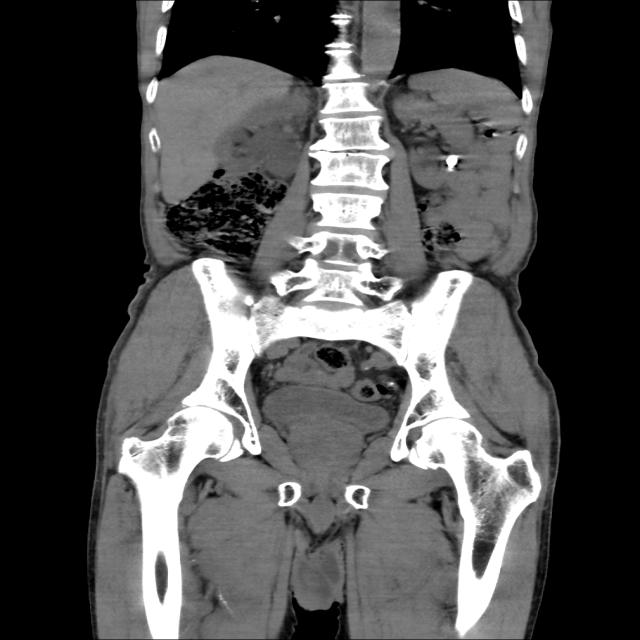kidneystone: (444, 154, 462, 171)
